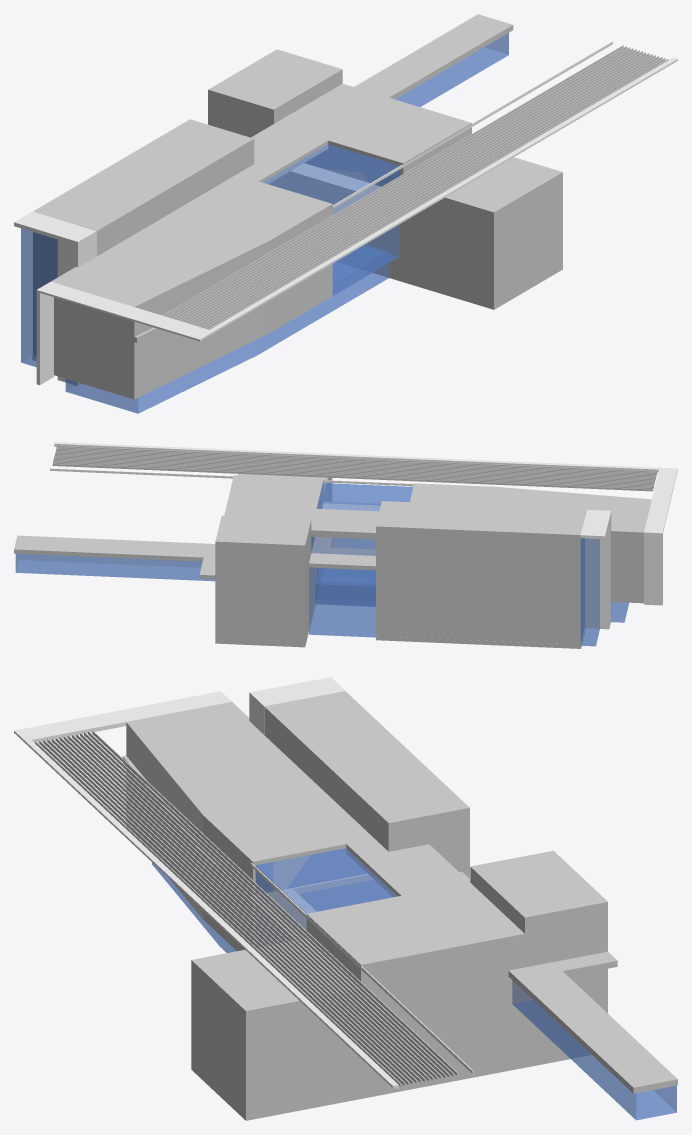
File: Opt2-Massing.obj
The picture shows the model from 3 angles, top to bottom: view 1: azimuth 30°, elevation 25°; view 2: azimuth 150°, elevation 25°; view 3: azimuth 270°, elevation 25°; orthographic projection. The views are drawn at different scales.
Parts seen in each view (by area): view 1: Mesh28 Component_776_1 Group1 Model, Mesh22 Group12 Group11 Group1 Model, Mesh23 Group13 Group1 Model, Mesh2 Group3 Group1 Model, Mesh26 Component_17_1 Component_776_1 Group1 Model, Mesh3 Group4 Group1 Model, Mesh1 Group2 Group1 Model, Mesh24 Group14 Group1 Model, Mesh4 Group5 Group1 Model, Mesh9 Component_110_5 Group7 Group1 Model, Mesh14 Component_110_10 Group7 Group1 Model, Mesh18 Component_110_14 Group7 Group1 Model (+13 smaller); view 2: Mesh28 Component_776_1 Group1 Model, Mesh22 Group12 Group11 Group1 Model, Mesh2 Group3 Group1 Model, Mesh26 Component_17_1 Component_776_1 Group1 Model, Mesh23 Group13 Group1 Model, Mesh4 Group5 Group1 Model, Mesh24 Group14 Group1 Model, Mesh3 Group4 Group1 Model, Mesh1 Group2 Group1 Model, Mesh20 Component_110_16 Group7 Group1 Model, Mesh8 Component_110_4 Group7 Group1 Model, Mesh7 Component_110_3 Group7 Group1 Model (+14 smaller); view 3: Mesh28 Component_776_1 Group1 Model, Mesh22 Group12 Group11 Group1 Model, Mesh26 Component_17_1 Component_776_1 Group1 Model, Mesh23 Group13 Group1 Model, Mesh2 Group3 Group1 Model, Mesh4 Group5 Group1 Model, Mesh24 Group14 Group1 Model, Mesh10 Component_110_6 Group7 Group1 Model, Mesh12 Component_110_8 Group7 Group1 Model, Mesh11 Component_110_7 Group7 Group1 Model, Mesh7 Component_110_3 Group7 Group1 Model, Mesh8 Component_110_4 Group7 Group1 Model (+12 smaller).
Boxes of the visible parts, <box> form: Mesh28 Component_776_1 Group1 Model: <box>33,49,562,399</box>; Mesh22 Group12 Group11 Group1 Model: <box>33,119,254,255</box>; Mesh23 Group13 Group1 Model: <box>36,57,677,385</box>; Mesh2 Group3 Group1 Model: <box>263,144,399,295</box>; Mesh26 Component_17_1 Component_776_1 Group1 Model: <box>33,14,513,342</box>; Mesh3 Group4 Group1 Model: <box>65,245,389,413</box>; Mesh1 Group2 Group1 Model: <box>21,228,57,367</box>; Mesh24 Group14 Group1 Model: <box>14,211,96,385</box>; Mesh4 Group5 Group1 Model: <box>395,33,508,106</box>; Mesh9 Component_110_5 Group7 Group1 Model: <box>191,54,652,325</box>; Mesh14 Component_110_10 Group7 Group1 Model: <box>188,53,649,324</box>; Mesh18 Component_110_14 Group7 Group1 Model: <box>175,49,636,320</box>; Mesh28 Component_776_1 Group1 Model: <box>215,474,651,647</box>; Mesh22 Group12 Group11 Group1 Model: <box>376,501,586,554</box>; Mesh2 Group3 Group1 Model: <box>309,483,413,637</box>; Mesh26 Component_17_1 Component_776_1 Group1 Model: <box>14,501,584,582</box>; Mesh23 Group13 Group1 Model: <box>54,442,677,605</box>; Mesh4 Group5 Group1 Model: <box>15,553,215,581</box>; Mesh24 Group14 Group1 Model: <box>580,509,611,629</box>; Mesh3 Group4 Group1 Model: <box>315,568,628,622</box>; Mesh1 Group2 Group1 Model: <box>580,538,599,646</box>; Mesh20 Component_110_16 Group7 Group1 Model: <box>52,463,652,491</box>; Mesh8 Component_110_4 Group7 Group1 Model: <box>55,451,655,478</box>; Mesh7 Component_110_3 Group7 Group1 Model: <box>56,448,656,475</box>; Mesh28 Component_776_1 Group1 Model: <box>126,702,607,1120</box>; Mesh22 Group12 Group11 Group1 Model: <box>264,691,469,851</box>; Mesh26 Component_17_1 Component_776_1 Group1 Model: <box>122,755,677,1093</box>; Mesh23 Group13 Group1 Model: <box>14,691,398,1088</box>; Mesh2 Group3 Group1 Model: <box>255,848,397,947</box>; Mesh4 Group5 Group1 Model: <box>512,980,676,1120</box>; Mesh24 Group14 Group1 Model: <box>249,677,345,734</box>; Mesh10 Component_110_6 Group7 Group1 Model: <box>39,740,405,1085</box>; Mesh12 Component_110_8 Group7 Group1 Model: <box>63,736,429,1081</box>; Mesh11 Component_110_7 Group7 Group1 Model: <box>67,735,433,1080</box>; Mesh7 Component_110_3 Group7 Group1 Model: <box>43,740,409,1084</box>; Mesh8 Component_110_4 Group7 Group1 Model: <box>51,738,417,1083</box>.
Bounding box in the file's own units: 5036 × 1020 × 3580.
